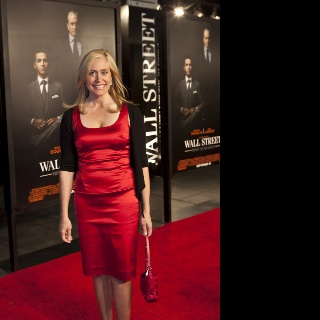without_mask: (85, 58, 110, 96)
